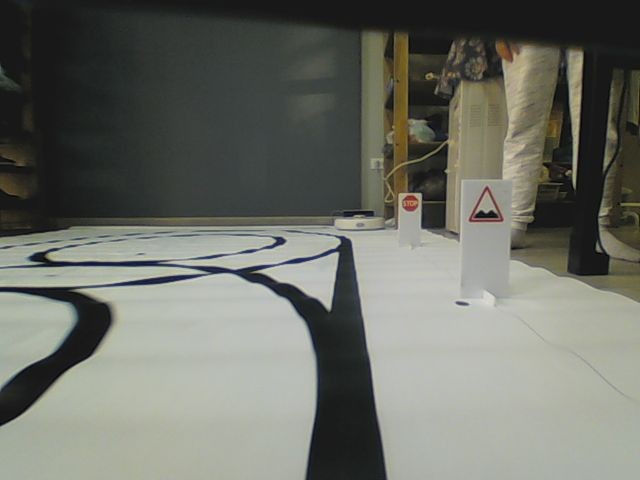Nerov: (468, 184, 505, 224)
Stop: (400, 195, 419, 212)
